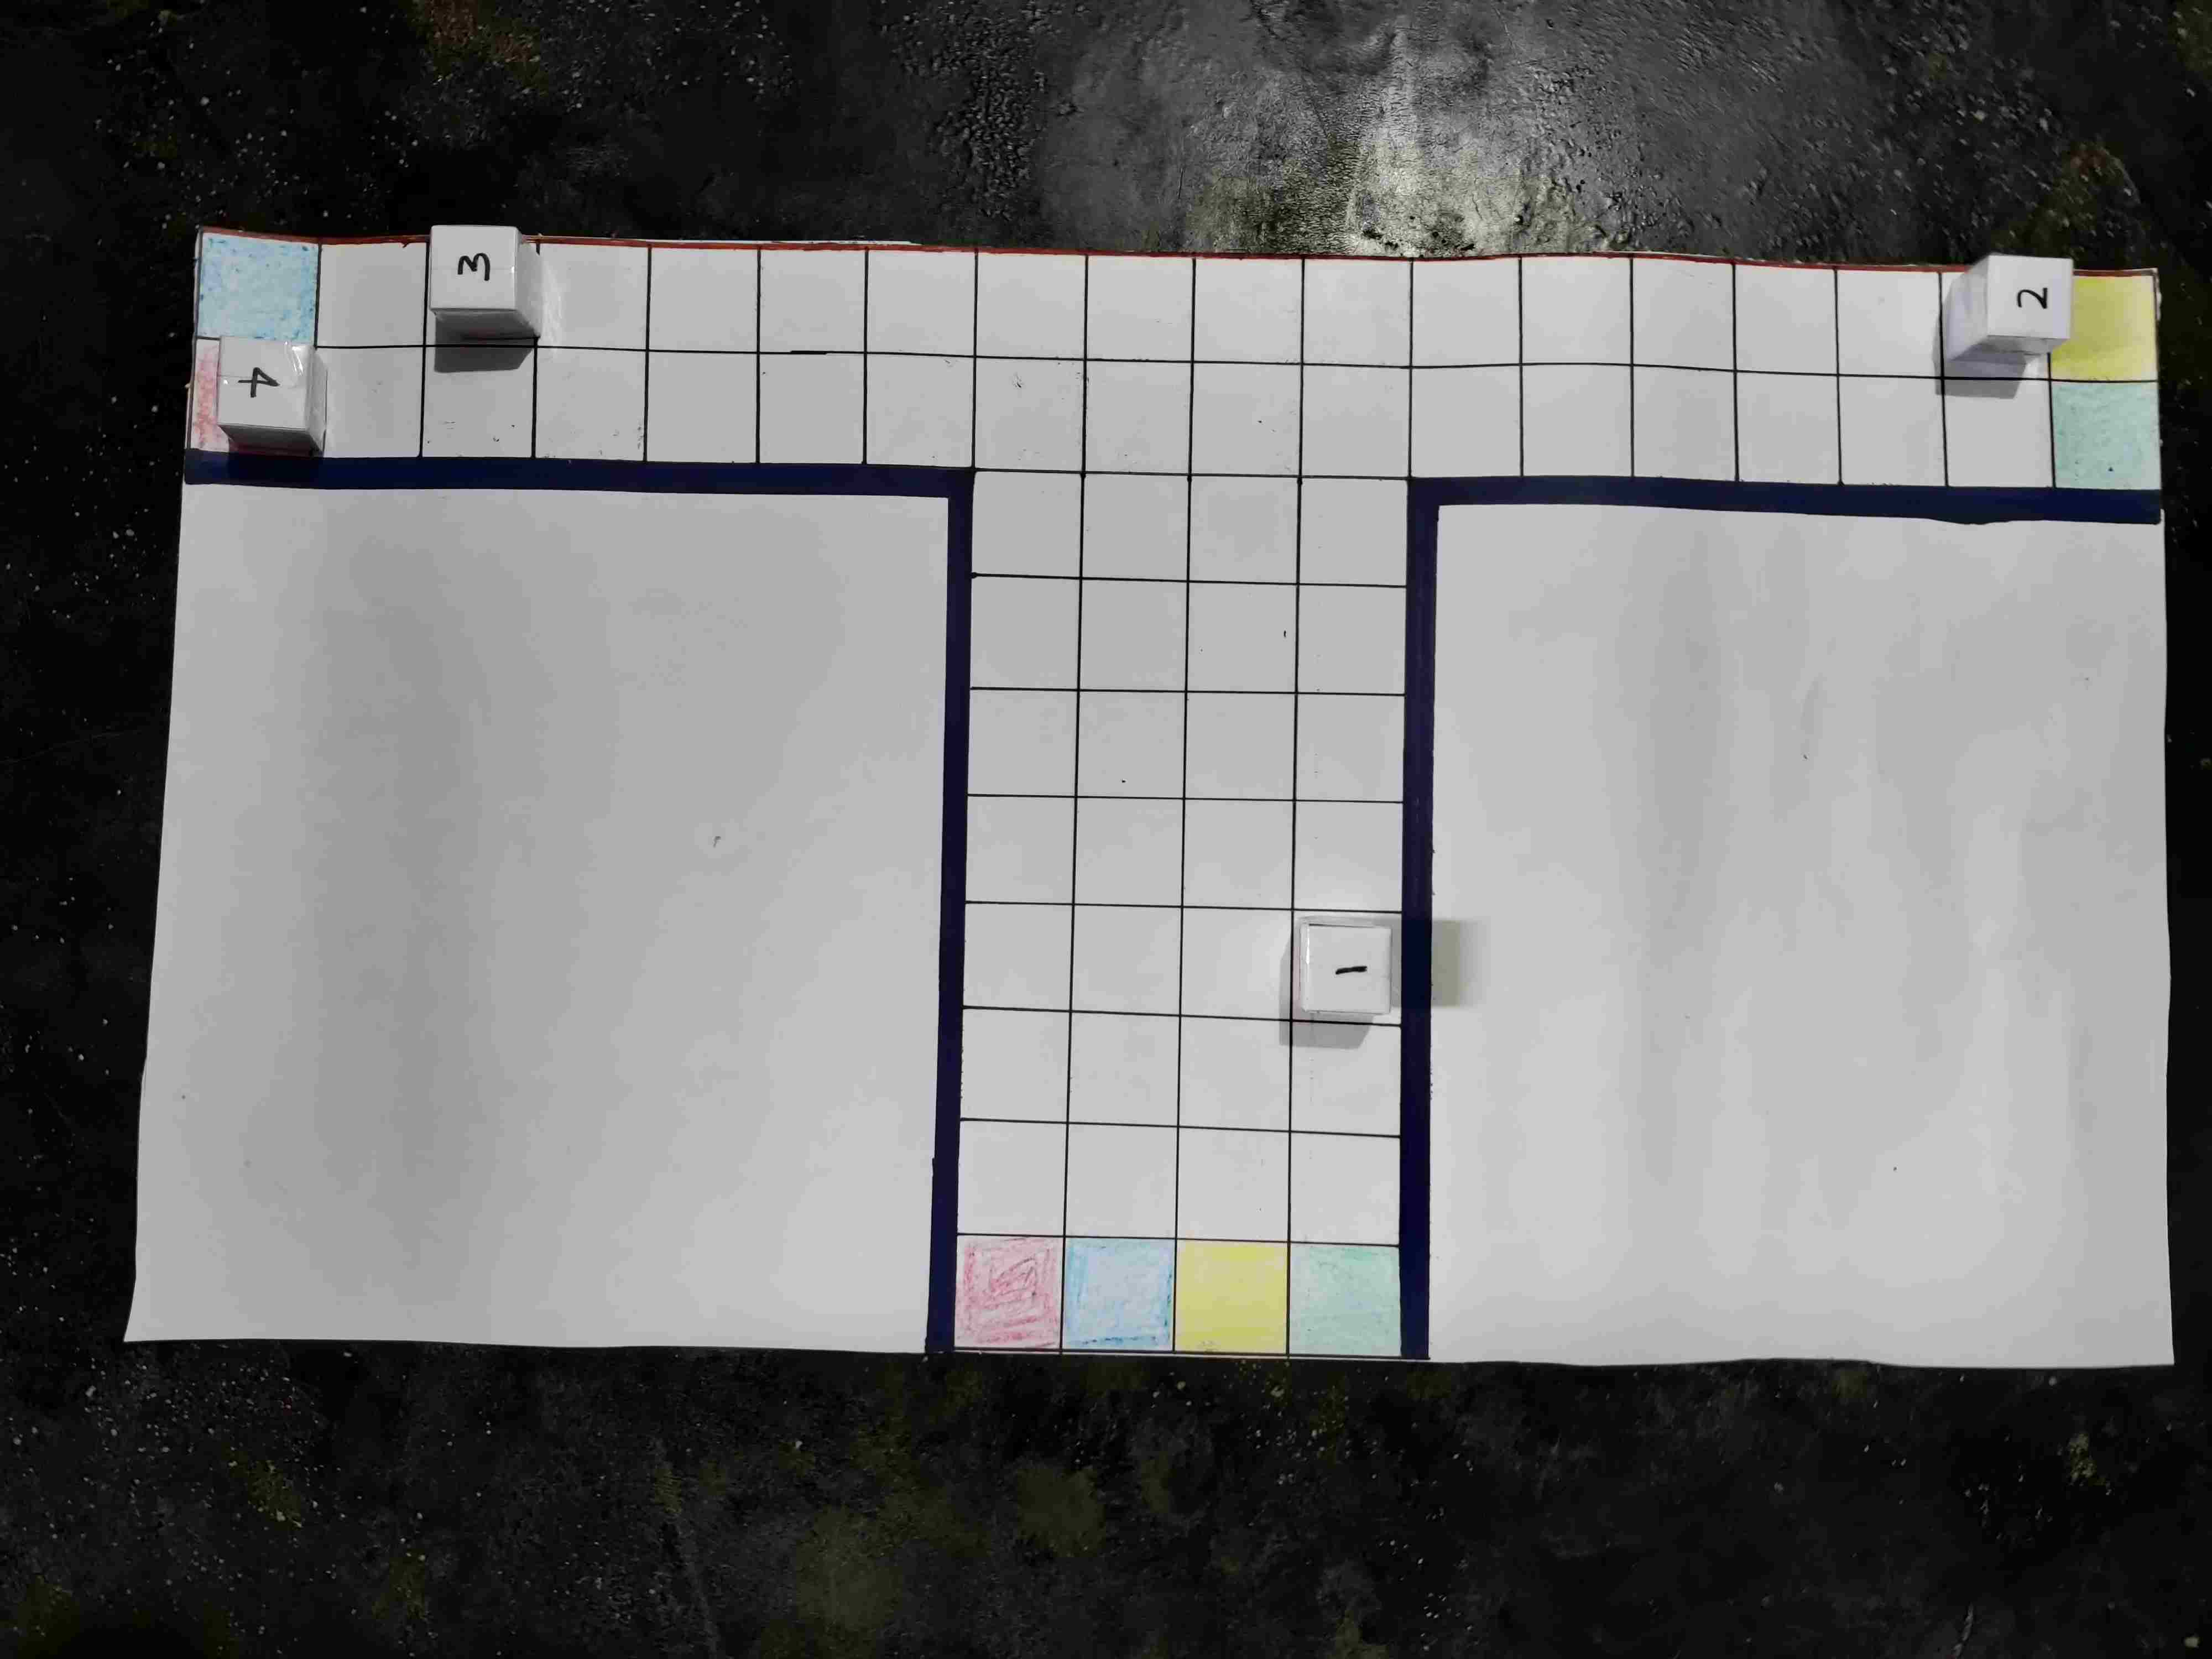arena: (172, 282, 2104, 1378)
bot: (1252, 1159, 1345, 1246), (923, 840, 1007, 922), (1134, 1068, 1219, 1148), (1031, 960, 1111, 1035)
